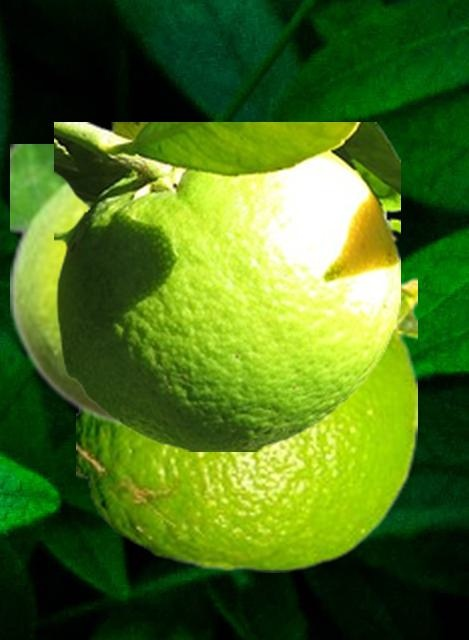dalandan: (76, 234, 416, 571), (54, 122, 399, 450), (10, 144, 139, 436)
